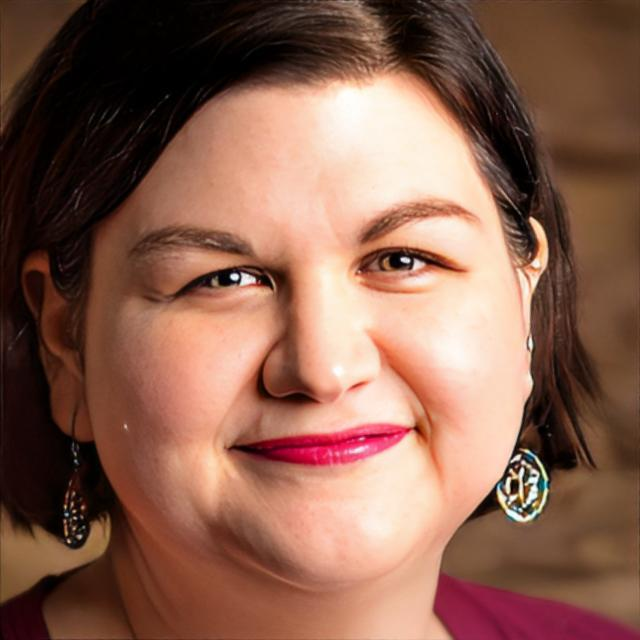content: (84, 34, 525, 594)
